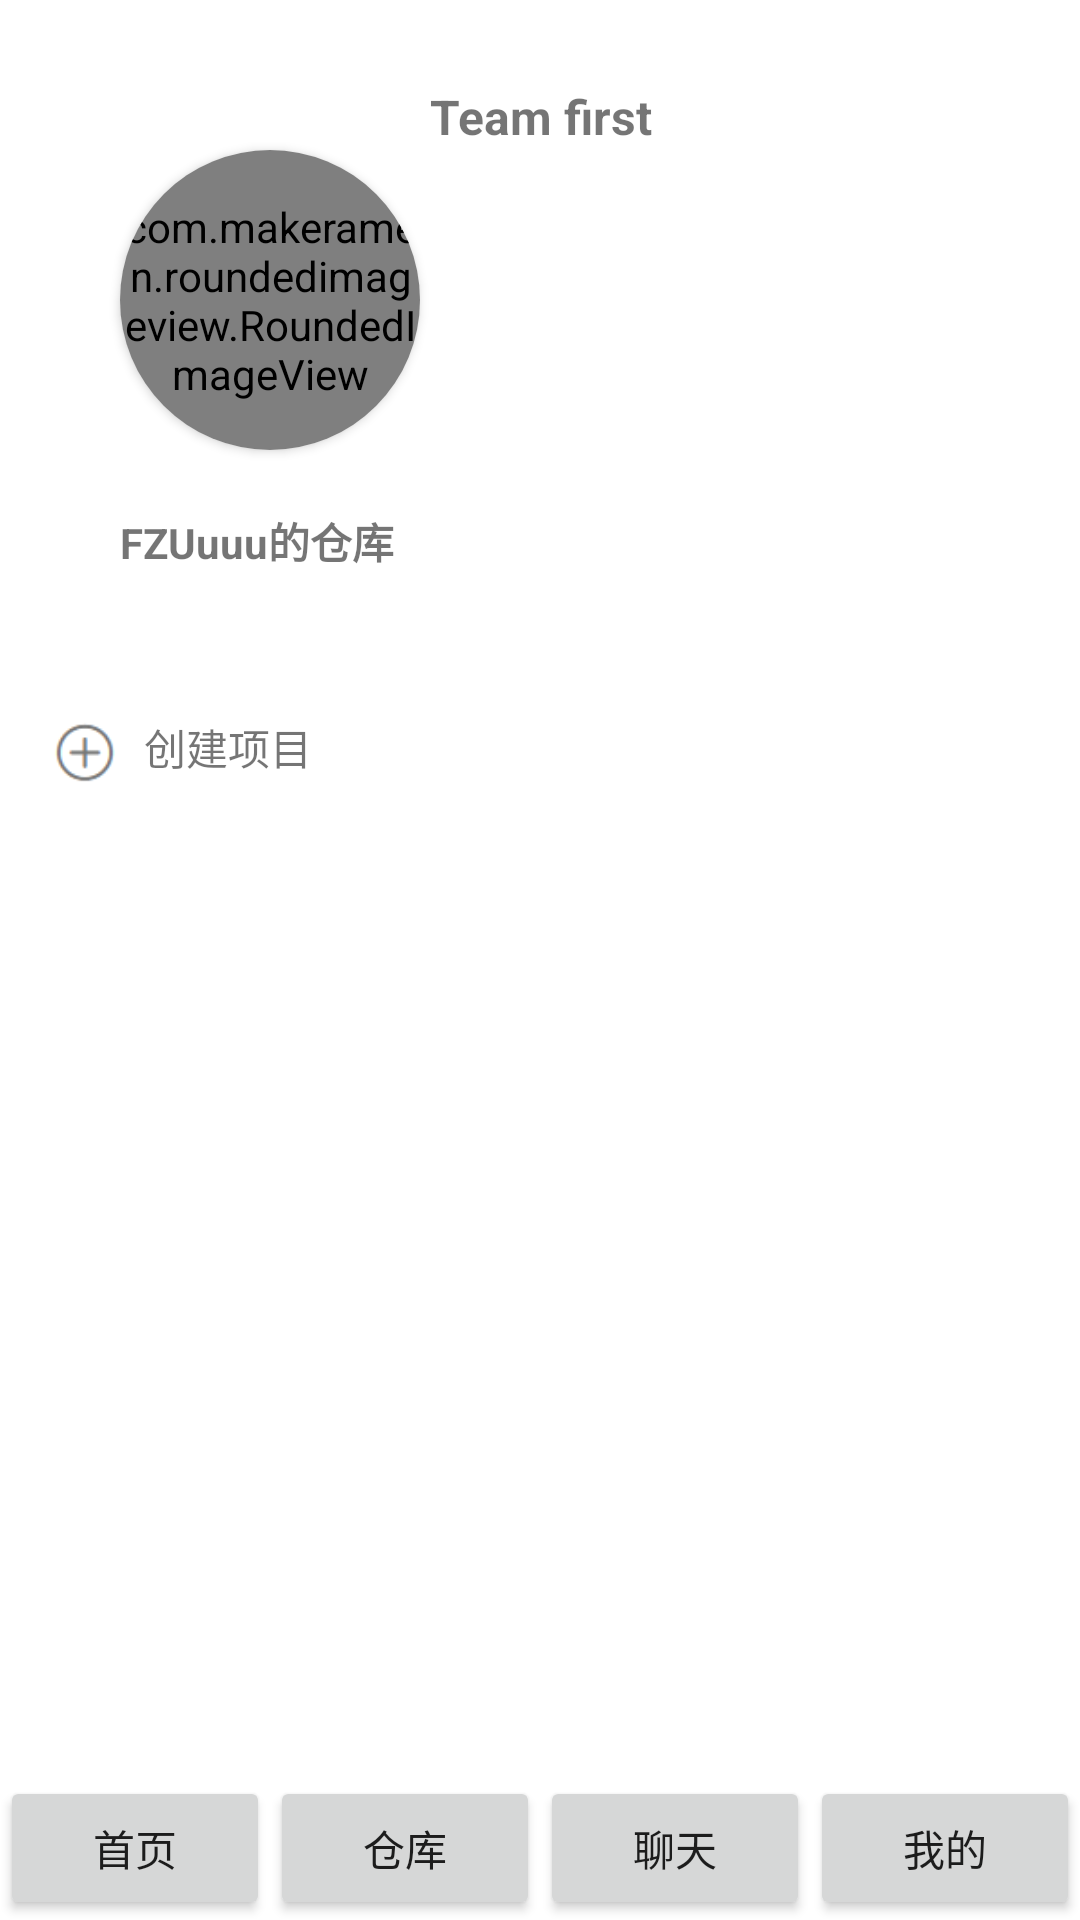

Point at icon controls on the screen. Image size 1080px×1920px, points as (x=x, y=y).
add: (x=85, y=752)
